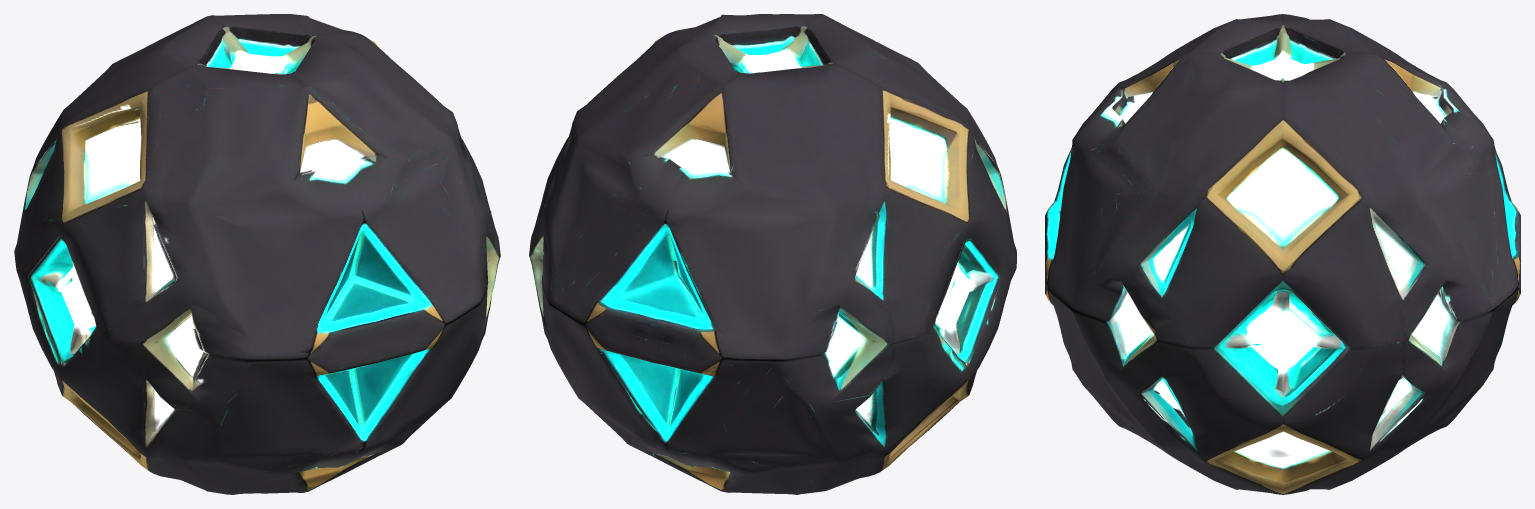
Rendered from orb.glb.
3 views of the same model, side by side, from view 1: azimuth 30°, elevation 25°; view 2: azimuth 150°, elevation 25°; view 3: azimuth 270°, elevation 25° (orthographic).
Visible parts, largest first — view 1: mesh_node; view 2: mesh_node; view 3: mesh_node.
Boxes of the visible parts, <box> form: mesh_node: <box>14,14,500,494</box>; mesh_node: <box>529,14,1016,494</box>; mesh_node: <box>1045,14,1520,494</box>.
Size of the model in its own units: 1.78 by 1.77 by 1.91.
Materials: 1 (1 with a texture image).
